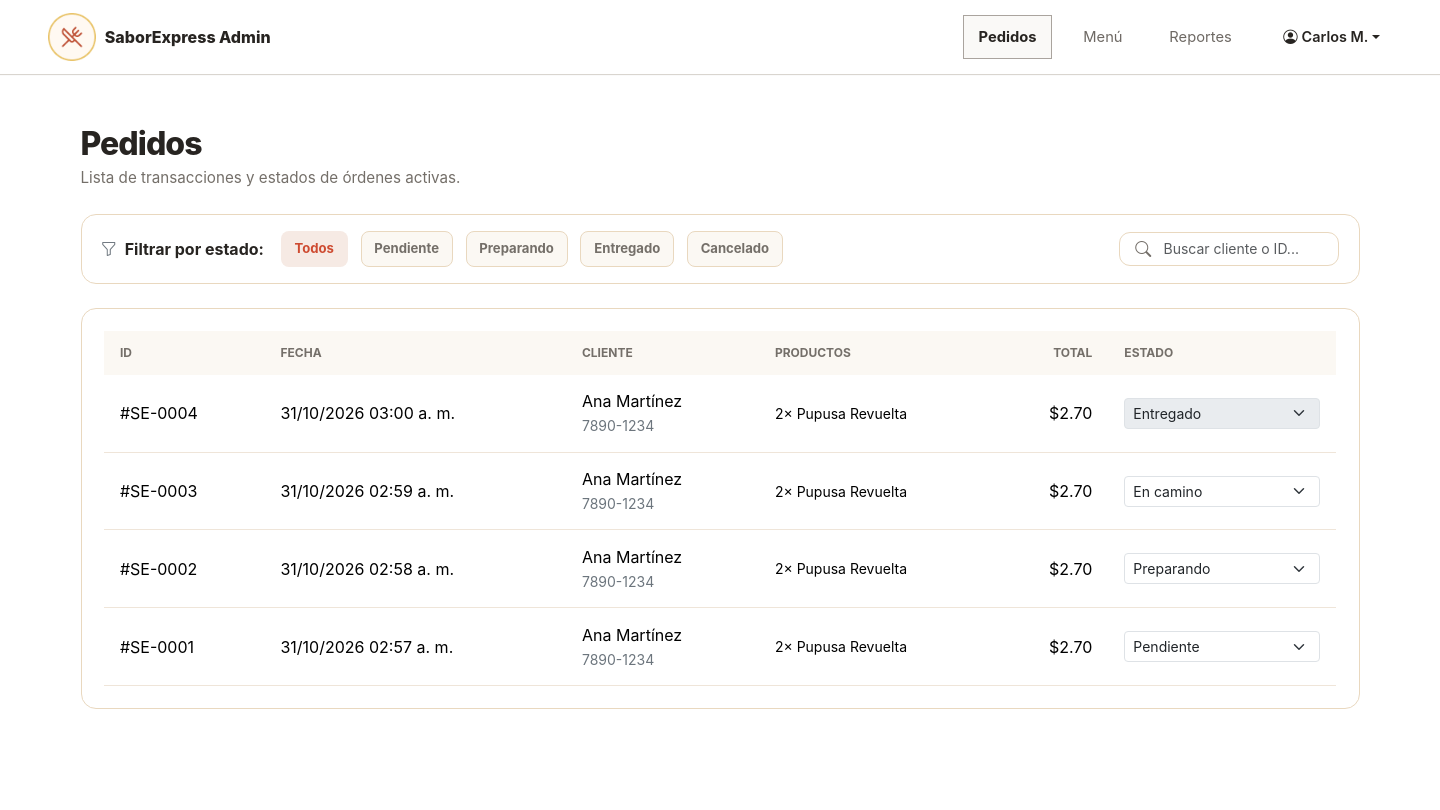
it: Panel de pedidos (administrador) › el filtro "Preparando" agrupa Preparando y En camino
Expected: the heading "Pedidos" is shown, 80,124 -> 202,163
Click the button "Preparando" at (517, 249), box 466,231 -> 568,267
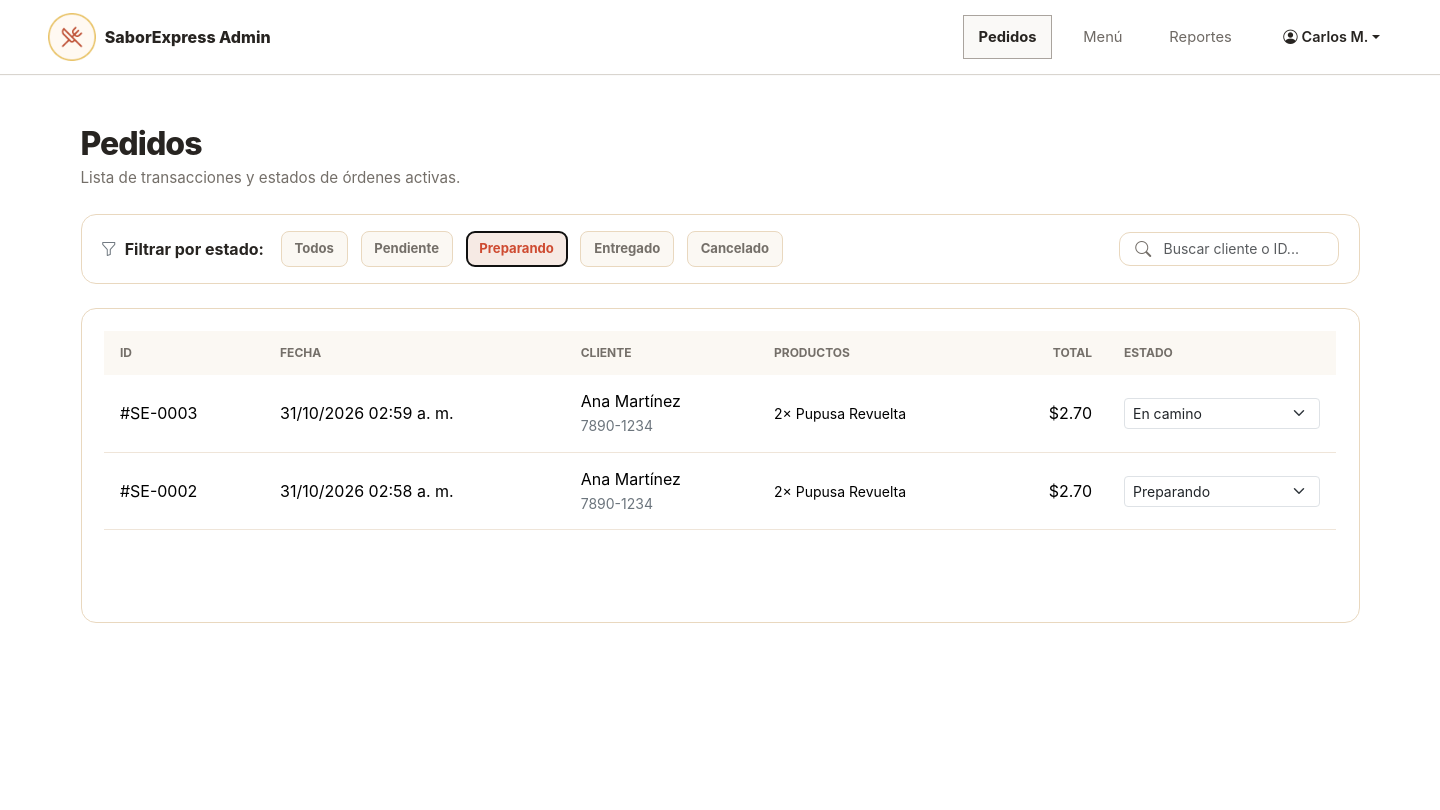
Now the number of rows is 3, box 104,331 -> 1336,375; 104,375 -> 1336,452; 104,452 -> 1336,530
Click the button "Todos" at (314, 249), box 281,231 -> 348,267
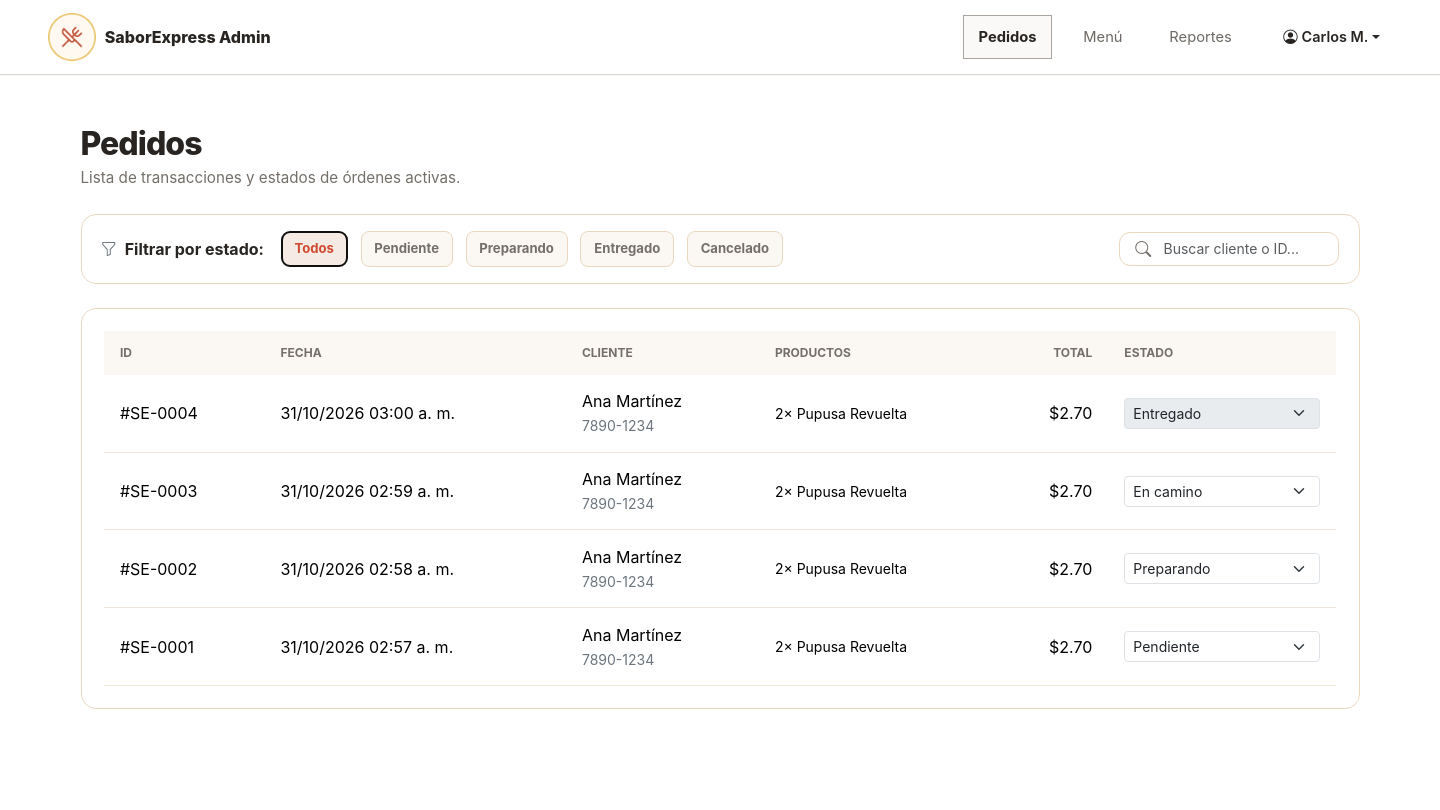
Now the number of rows is 5, box 104,331 -> 1336,375; 104,375 -> 1336,452; 104,452 -> 1336,530; 104,530 -> 1336,608; 104,608 -> 1336,686
